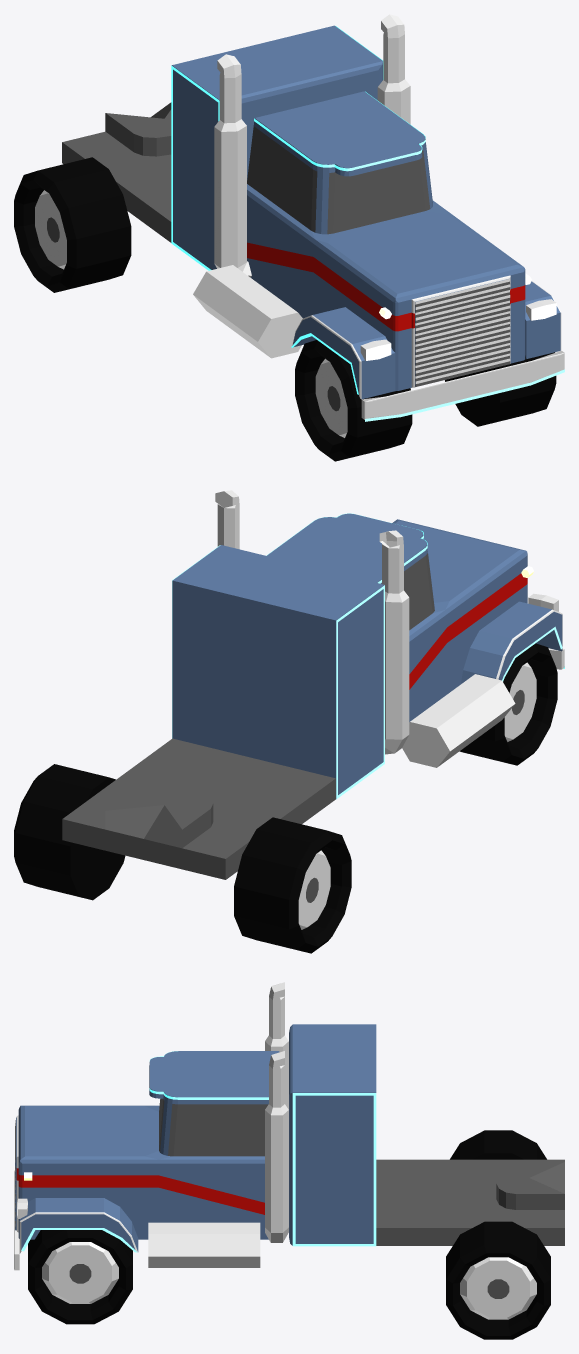
File: Truck.glb
3 views of the same model, one above another, from view 1: azimuth 30°, elevation 25°; view 2: azimuth 150°, elevation 25°; view 3: azimuth 270°, elevation 25° (orthographic). The views are drawn at different scales.
Visible parts, largest first — view 1: Cube; view 2: Cube; view 3: Cube.
Part boxes in pixels (x1,y1,x2,y2): Cube: (14, 14, 564, 461); Cube: (14, 490, 564, 953); Cube: (14, 982, 564, 1339).
Size of the model in its own units: 9.11 by 9.52 by 17.82.
